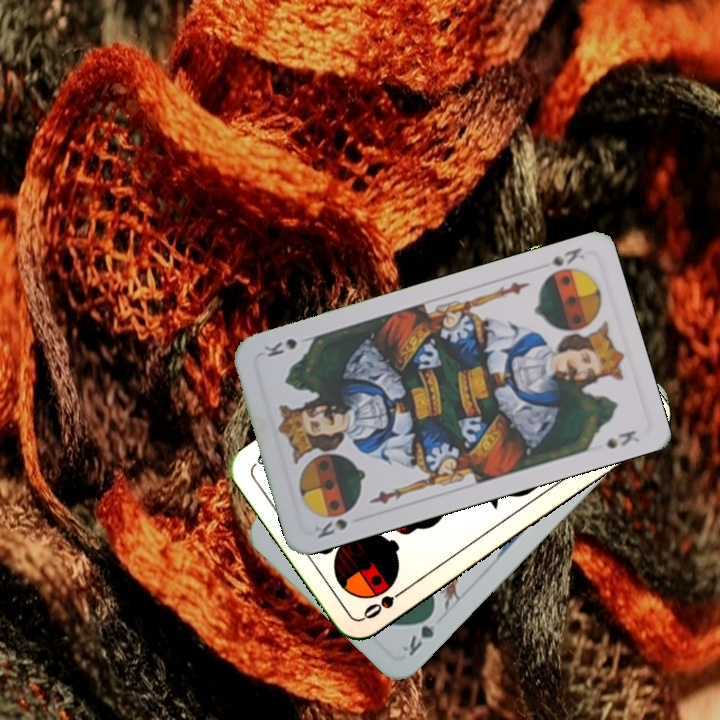GK: (397, 607, 441, 659)
SK: (540, 243, 587, 281), (310, 505, 356, 541)
SO: (359, 582, 411, 622)
